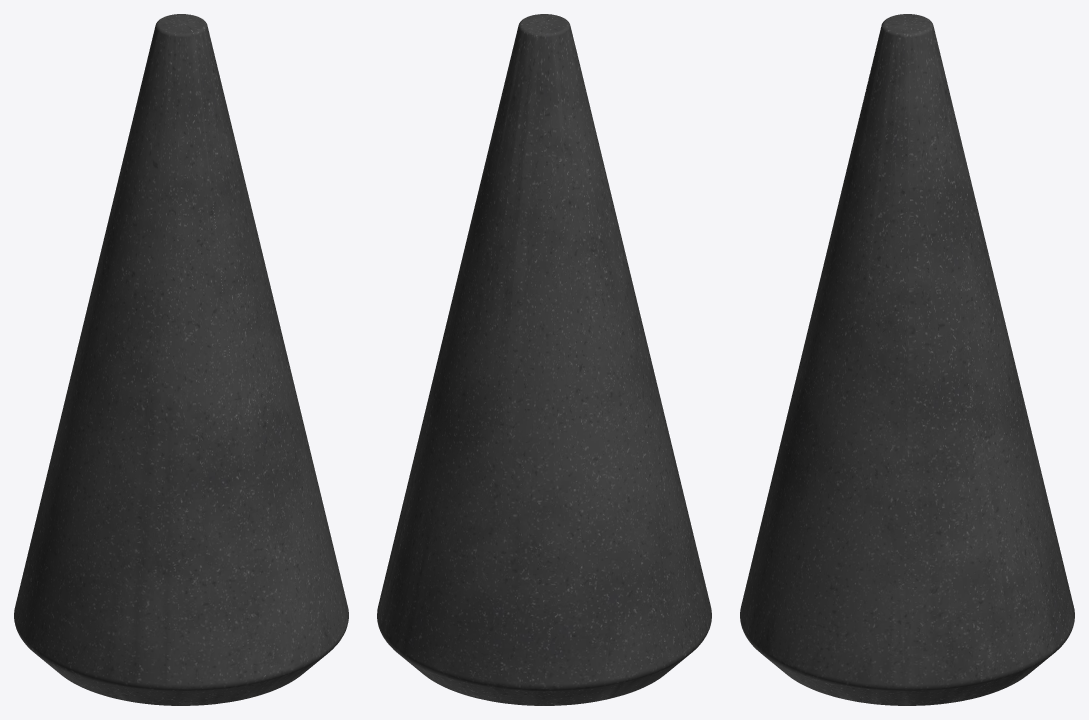
The model's file is pawn-black.glb.
3 views of the same model, side by side, from view 1: azimuth 30°, elevation 25°; view 2: azimuth 150°, elevation 25°; view 3: azimuth 270°, elevation 25° (orthographic).
Parts seen in each view (by area): view 1: 01_pesec_cerna; view 2: 01_pesec_cerna; view 3: 01_pesec_cerna.
Boxes of the visible parts, <box> form: 01_pesec_cerna: <box>14,14,348,705</box>; 01_pesec_cerna: <box>377,14,711,705</box>; 01_pesec_cerna: <box>740,14,1074,705</box>.
Size of the model in its own units: 0.6406 by 1.32 by 0.6406.
1 material, 1 textured.
